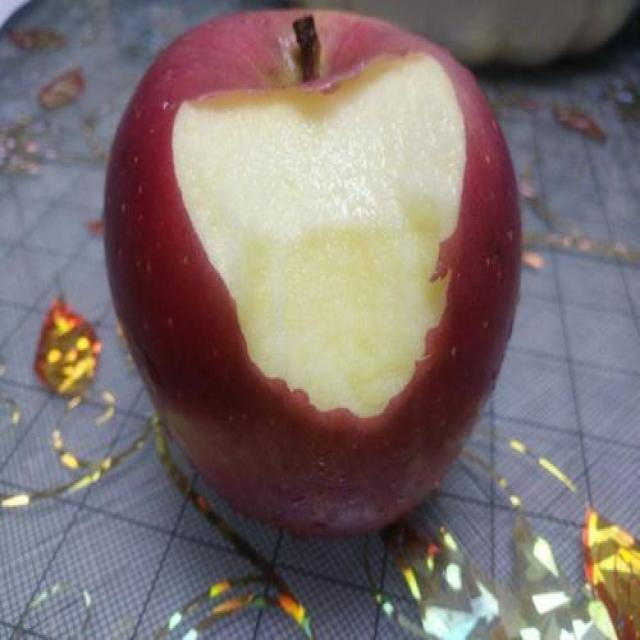Rotten: (119, 13, 512, 530)
